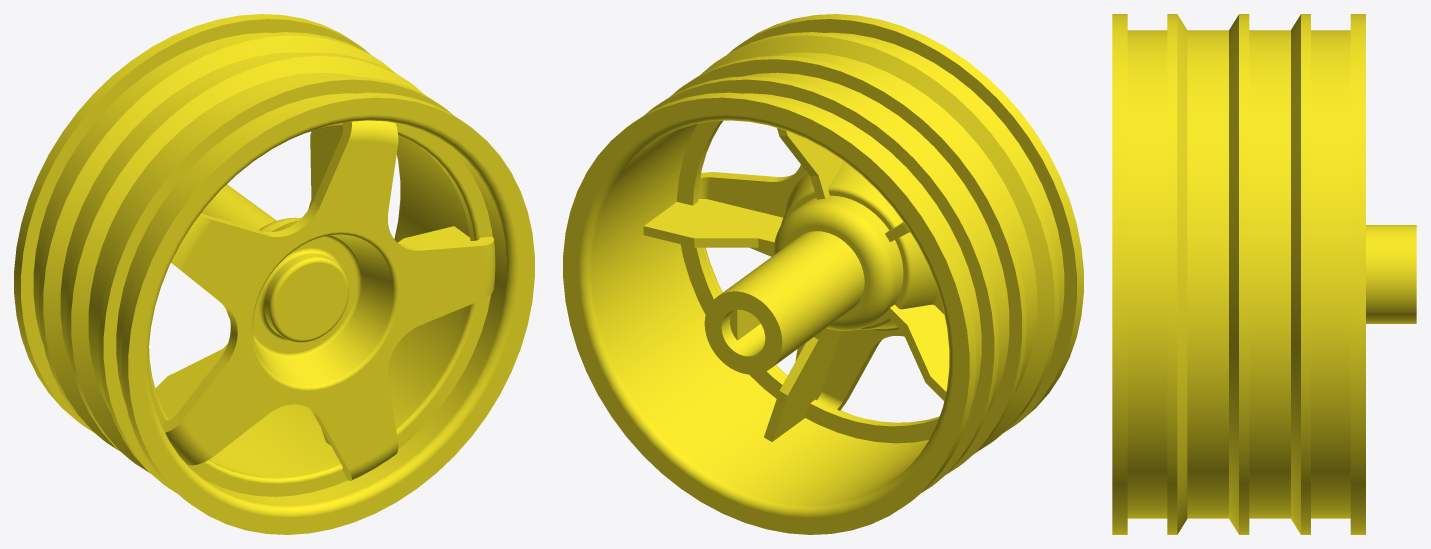
Rendered from main_body.obj.
3 renders of one model, left to right at view 1: azimuth 30°, elevation 25°; view 2: azimuth 150°, elevation 25°; view 3: azimuth 270°, elevation 25°, orthographic. The views are drawn at different scales.
Parts seen in each view (by area): view 1: Part_2; view 2: Part_2; view 3: Part_2.
Part boxes in pixels (x1,y1,x2,y2): Part_2: (14, 14, 534, 534); Part_2: (563, 14, 1083, 534); Part_2: (1112, 14, 1416, 534).
Bounding box in the file's own units: 0.0513 × 0.0514 × 0.03.
